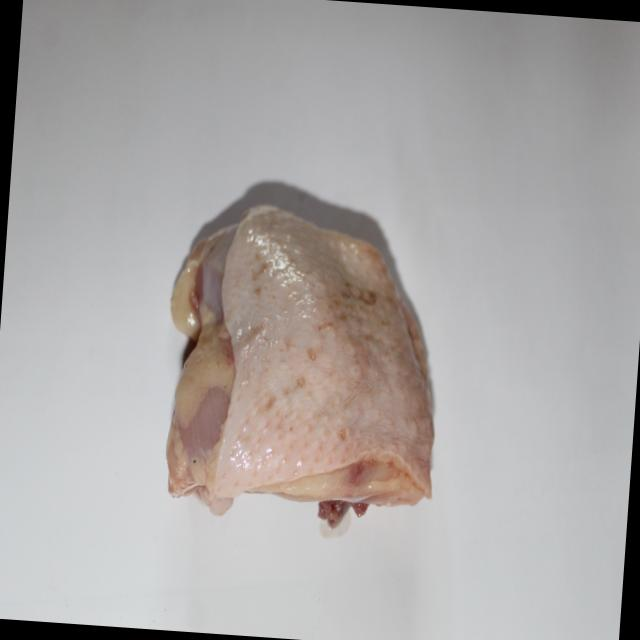chicken: (156, 194, 448, 510)
